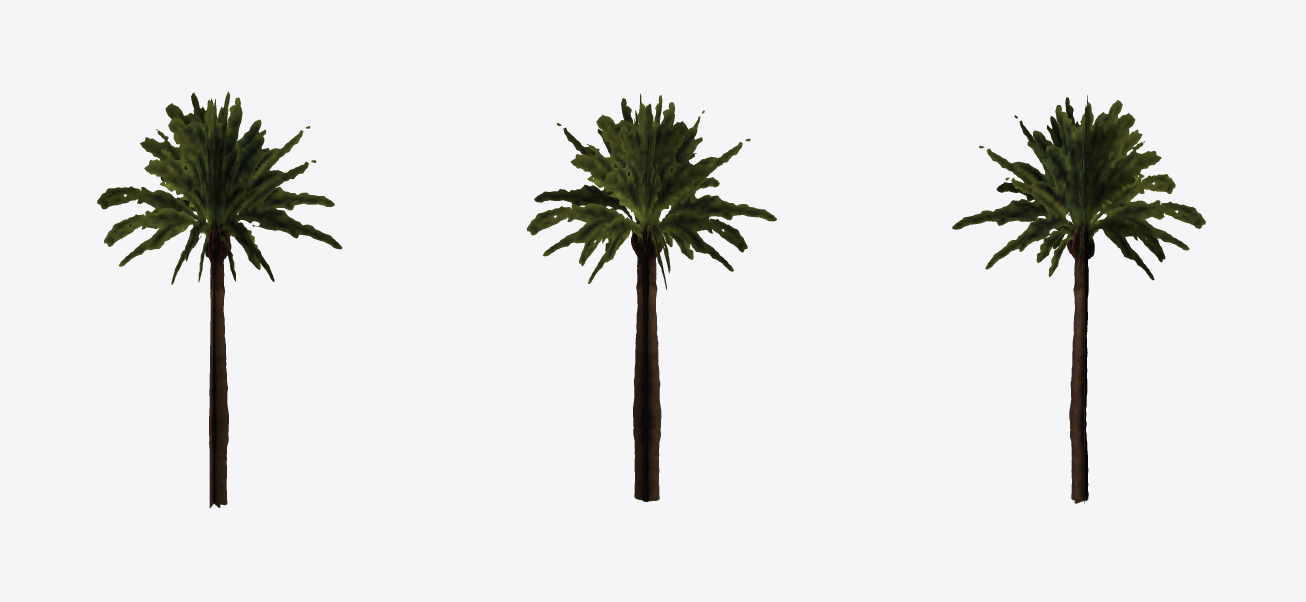
The model's file is palm_small.fbx.
3 renders of one model, left to right at view 1: azimuth 30°, elevation 25°; view 2: azimuth 150°, elevation 25°; view 3: azimuth 270°, elevation 25°, orthographic.
Visible parts, largest first — view 1: palm_small; view 2: palm_small; view 3: palm_small.
Boxes of the visible parts, x1,y1,x2,y2 form: palm_small: (97,91,342,508); palm_small: (527,93,776,501); palm_small: (952,95,1205,503).
Size of the model in its own units: 798 by 851 by 798.
1 material, 1 textured.
